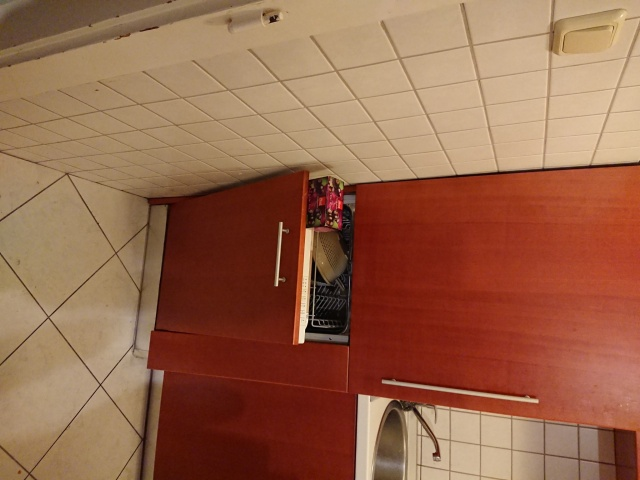Franck Black Currant Tea 60g: (304, 173, 346, 235)
